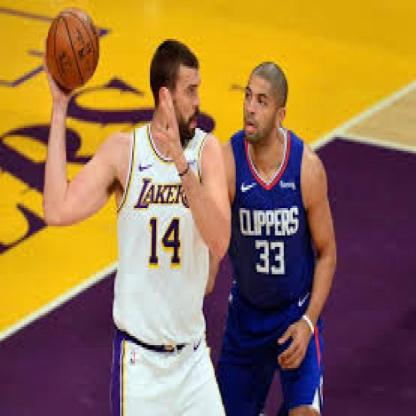basketball: (47, 9, 99, 92)
